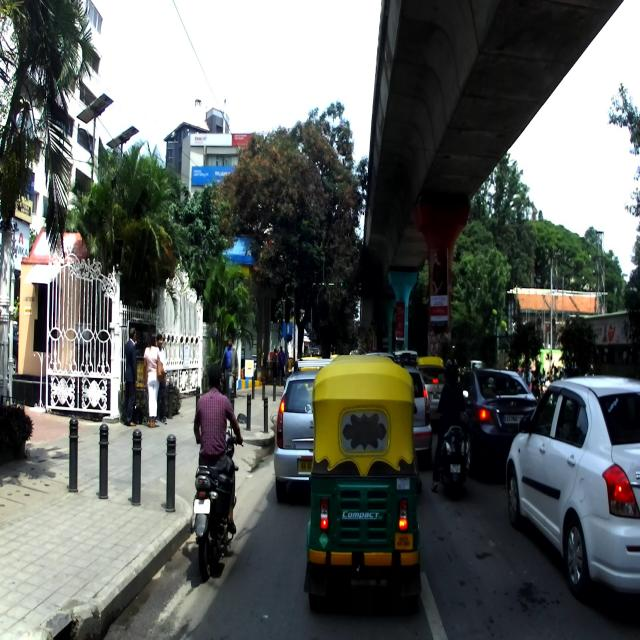Car_Hyundai: (456, 367, 538, 479)
Car_Maruti-Suzuki: (505, 375, 640, 603)
Car_TATA: (273, 356, 344, 504), (393, 350, 432, 470)
autorickshaw: (303, 356, 422, 618)
bus: (566, 308, 640, 375)
motorcycle: (530, 371, 542, 408), (538, 377, 547, 400)
motorcycle_bajaj: (186, 411, 247, 580)
scooter: (432, 389, 471, 498)
